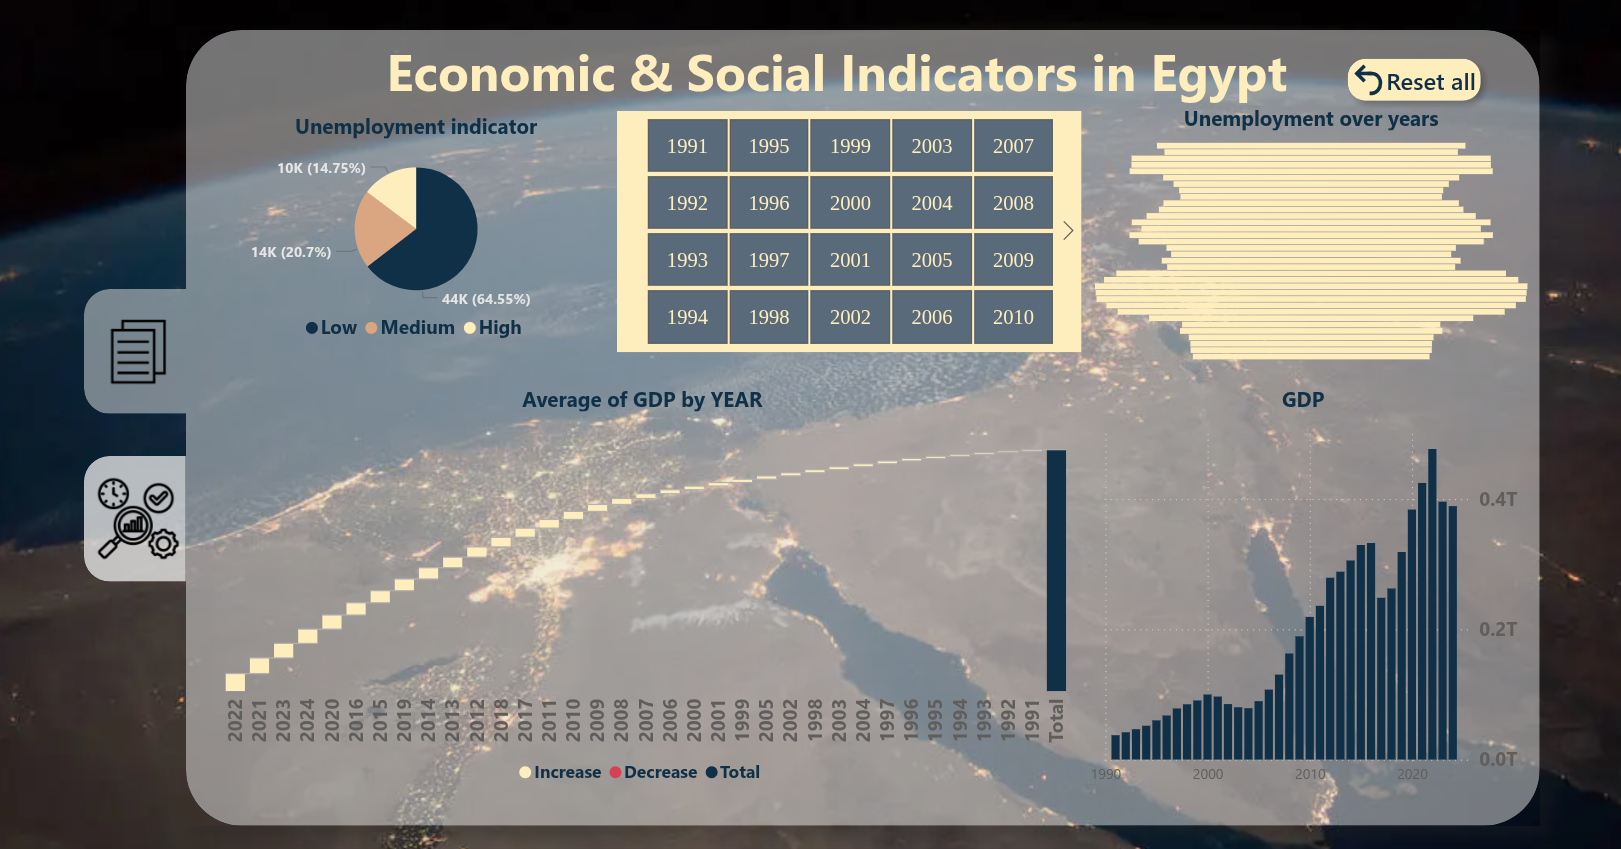

This screenshot's page, from the dashboard's own definition file:
{"tool":"powerbi","page":{"name":"Deep analysis","canvas":[1280,720],"ordinal":1},"visuals":[{"type":"shape","title":"back2","box":[111.7,25,1140,670],"z":0},{"type":"actionButton","title":"deep","box":[25.7,384.3,85.7,105.7],"z":1000},{"type":"slicer","title":"sclicer year","fields":{"Values":["DIM_YEAR.YEAR"]},"box":[475,93.8,391.2,202.5],"z":2000},{"type":"textbox","title":"title","box":[253,24.9,815,69.2],"z":3000},{"type":"actionButton","title":"overview","box":[25.9,243.5,85.9,105.1],"z":4000},{"type":"waterfallChart","fields":{"Category":["DIM_YEAR.YEAR"],"Y":["Avg(FACT_ECONOMIC_INDICATORS.GDP_MILLION_USD)"]},"box":[126.2,323.8,740,346.2],"z":5000},{"type":"clusteredColumnChart","title":"GDP","fields":{"Y":["Sum(FACT_ECONOMIC_INDICATORS.GDP_MILLION_USD)"],"Category":["DIM_YEAR.YEAR"]},"box":[866.2,323.8,372.5,346.2],"z":6000},{"type":"pieChart","title":"Unemployment indicator","fields":{"Y":["Sum(DIM_YEAR.YEAR)"],"Category":["DIM_FLAGS.UNEMPLOYMENT_FLAG"]},"box":[136.2,93.8,338.8,202.5],"z":7000},{"type":"actionButton","box":[1081.7,40,130,53.3],"z":8000},{"type":"funnel","title":"Unemployment over years","fields":{"Category":["DIM_YEAR.YEAR"],"Y":["Sum(FACT_ECONOMIC_INDICATORS.UE_rate)"]},"box":[867.1,87.1,384.3,221.4],"z":9000}]}

Visuals, with their boxes on the page's 1280x720 design canvas (x1, y1, x2, y2). These are canvas units, not pixel positions in the 1621x849 screenshot, which may show the page scaled, cropped or inside an application window:
"back2" shape: x1=112, y1=25, x2=1252, y2=695
"deep" actionButton: x1=26, y1=384, x2=111, y2=490
"sclicer year" slicer: x1=475, y1=94, x2=866, y2=296
"title" textbox: x1=253, y1=25, x2=1068, y2=94
"overview" actionButton: x1=26, y1=244, x2=112, y2=349
waterfallChart - DIM_YEAR.YEAR x Avg(FACT_ECONOMIC_INDICATORS.GDP_MILLION_USD): x1=126, y1=324, x2=866, y2=670
"GDP" clusteredColumnChart: x1=866, y1=324, x2=1239, y2=670
"Unemployment indicator" pieChart: x1=136, y1=94, x2=475, y2=296
actionButton: x1=1082, y1=40, x2=1212, y2=93
"Unemployment over years" funnel: x1=867, y1=87, x2=1251, y2=308
